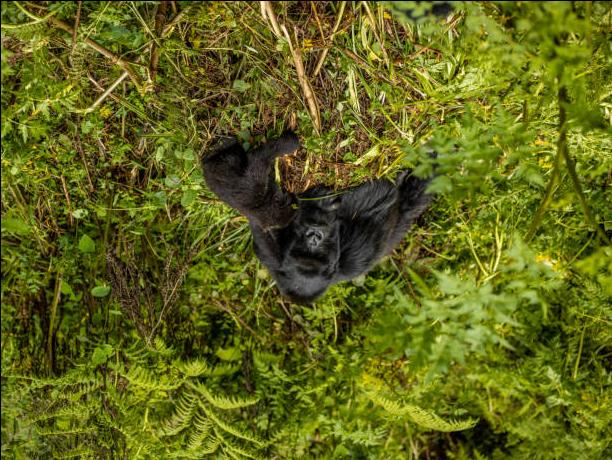goriile_montagne: (243, 182, 426, 303)
